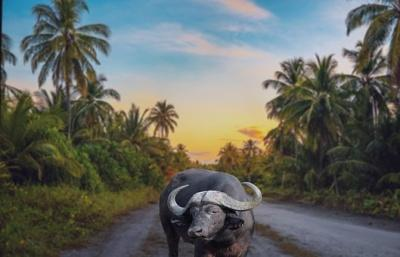buffalo: (159, 169, 261, 256)
